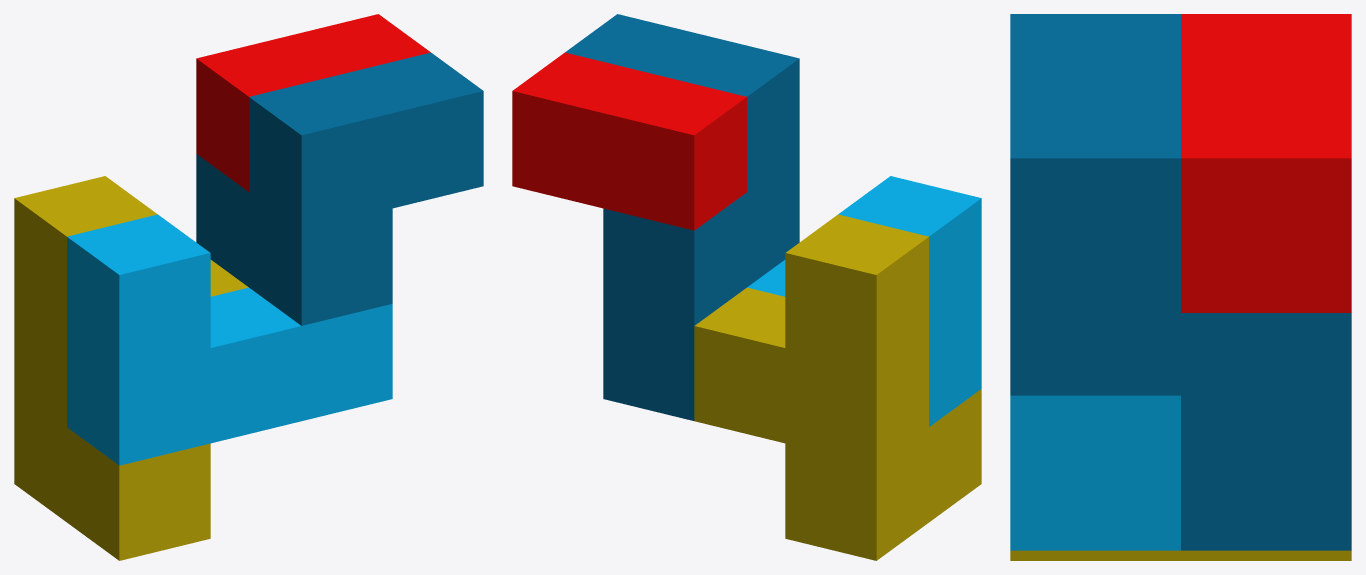
3 renders of one model, left to right at view 1: azimuth 30°, elevation 25°; view 2: azimuth 150°, elevation 25°; view 3: azimuth 270°, elevation 25°, orthographic. The views are drawn at different scales.
Visible parts, largest first — view 1: mergedBlocks(Clone); view 2: mergedBlocks(Clone); view 3: mergedBlocks(Clone).
Part boxes in pixels (x1,y1,x2,y2): mergedBlocks(Clone): (14, 14, 483, 560); mergedBlocks(Clone): (512, 14, 981, 560); mergedBlocks(Clone): (1010, 14, 1351, 560).
Size of the model in its own units: 4 by 4 by 2.
Materials: 4 (4 with a texture image).
